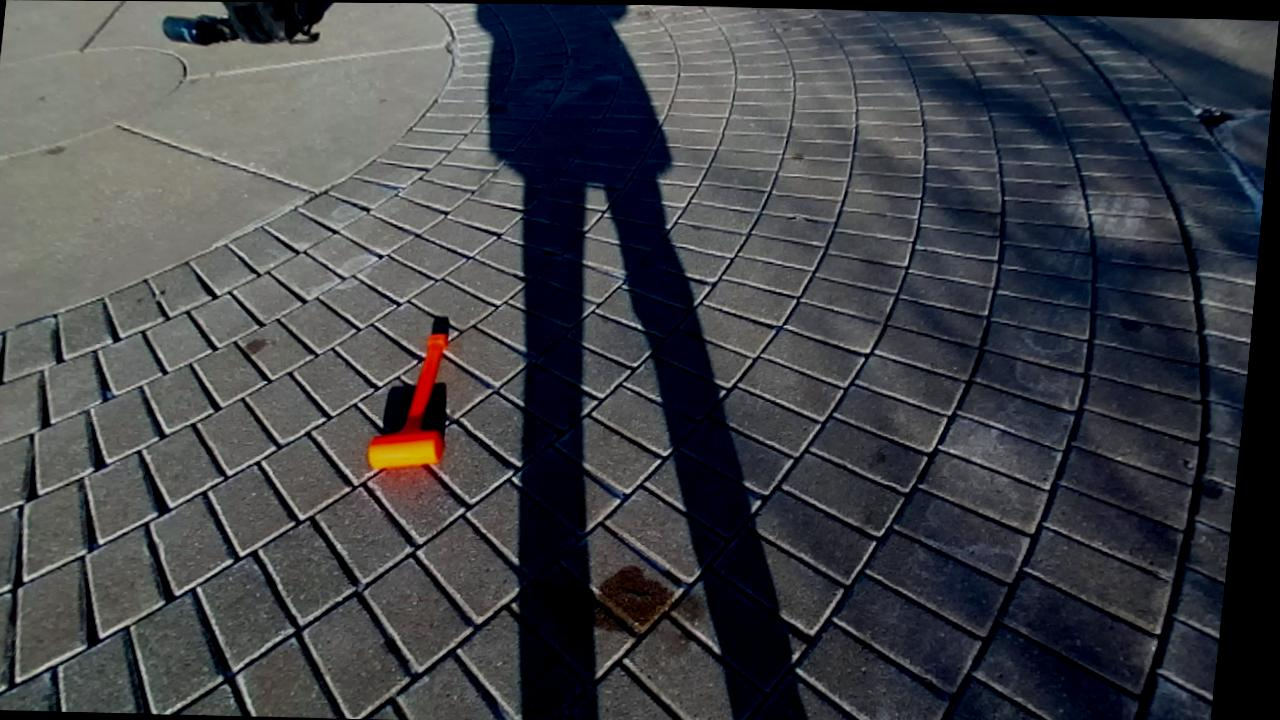bottle: (163, 16, 230, 45)
mallet: (367, 318, 447, 468)
